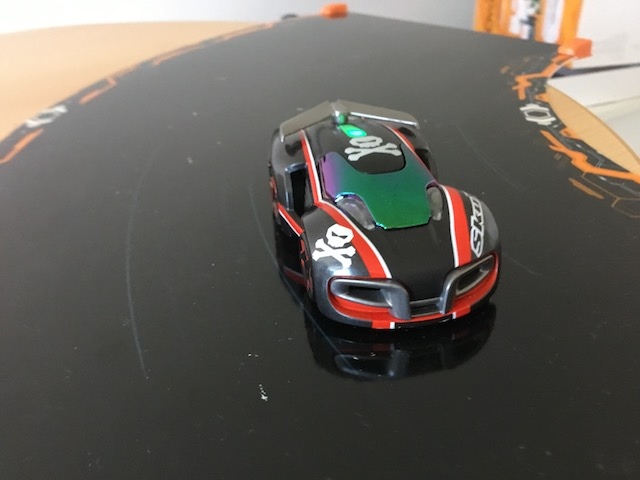car-red: (265, 96, 505, 340)
